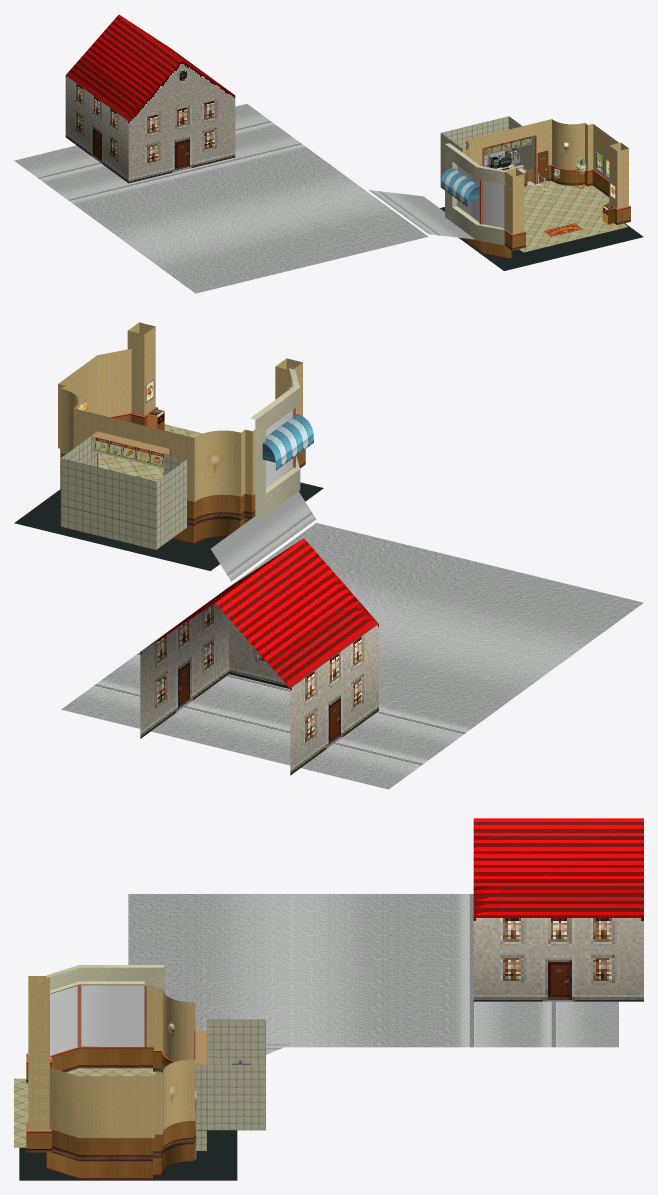
File: MarioMap_0.obj
3 renders of one model, top to bottom at view 1: azimuth 30°, elevation 25°; view 2: azimuth 150°, elevation 25°; view 3: azimuth 270°, elevation 25°, orthographic. The views are drawn at different scales.
Parts seen in each view (by area): view 1: Object_38, Object_37, Object_18, Object_19, Object_45, Object_44, Object_73, Object_21, Object_76, Object_36, Object_23, Object_25 (+1 smaller); view 2: Object_38, Object_37, Object_19, Object_21, Object_73, Object_45, Object_44, Object_23, Object_36, Object_25, Object_43, Object_18; view 3: Object_38, Object_37, Object_19, Object_21, Object_76, Object_45, Object_73, Object_25, Object_44, Object_23, Object_18.
Part boxes in pixels (<box>): Object_38: <box>14,104,474,293</box>; Object_37: <box>65,14,235,183</box>; Object_18: <box>519,181,627,252</box>; Object_19: <box>462,119,618,196</box>; Object_45: <box>503,142,630,250</box>; Object_44: <box>445,143,508,245</box>; Object_73: <box>440,207,643,270</box>; Object_21: <box>440,116,534,185</box>; Object_76: <box>458,166,504,226</box>; Object_36: <box>440,168,479,206</box>; Object_23: <box>464,122,575,169</box>; Object_25: <box>462,230,617,258</box>; Object_38: <box>61,491,643,789</box>; Object_37: <box>140,538,378,775</box>; Object_19: <box>58,349,255,522</box>; Object_21: <box>60,435,186,549</box>; Object_73: <box>14,482,323,570</box>; Object_45: <box>127,322,305,468</box>; Object_44: <box>250,368,300,522</box>; Object_23: <box>72,393,227,497</box>; Object_36: <box>262,414,313,470</box>; Object_25: <box>60,469,255,543</box>; Object_43: <box>91,436,163,468</box>; Object_18: <box>98,424,202,481</box>; Object_38: <box>128,894,618,1054</box>; Object_37: <box>473,818,643,1001</box>; Object_19: <box>50,985,206,1157</box>; Object_21: <box>195,1019,265,1130</box>; Object_76: <box>50,985,142,1052</box>; Object_45: <box>26,976,51,1152</box>; Object_73: <box>19,1130,237,1180</box>; Object_25: <box>46,1139,195,1178</box>; Object_44: <box>46,965,165,993</box>; Object_23: <box>165,994,181,1128</box>; Object_18: <box>14,1068,158,1147</box>.
Bounding box in the file's own units: 3500 × 1025 × 3468.
74 materials, 74 textured.
